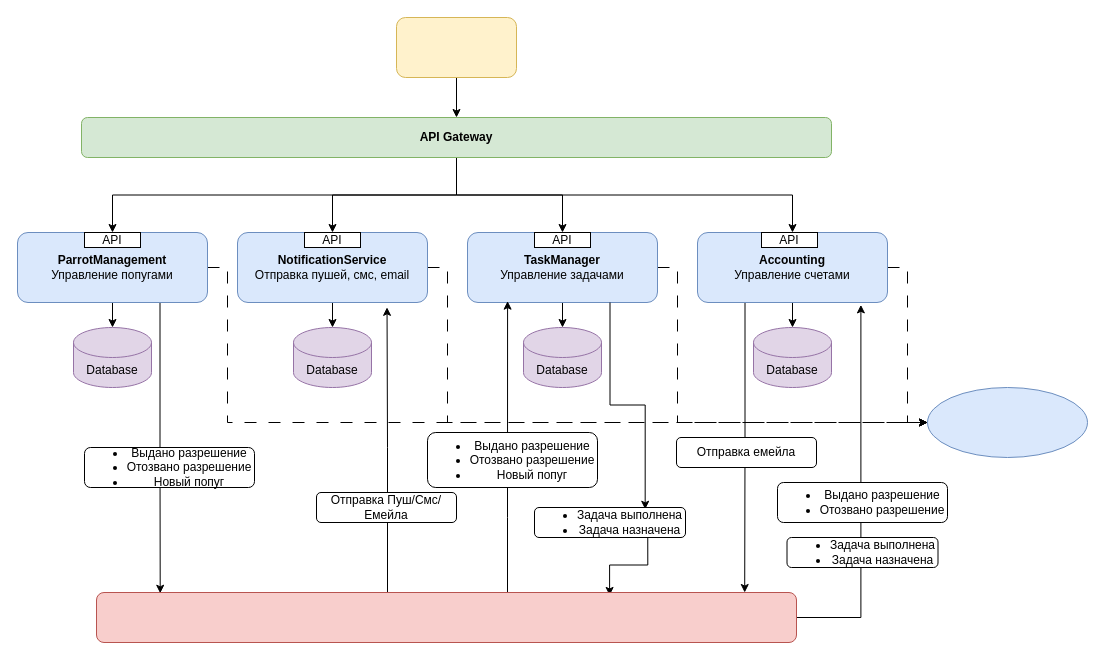
The diagram is 1105 pixels wide and 660 high, and some of its shapes have lost their labels. Here are the shapes that lost their labels. From the top down, the centre of each, then its label:
At [456,47]: "UI".
At [1007,422]: "UberPopug Inc Сервис авторизации".
At [446,617]: "Брокер".
